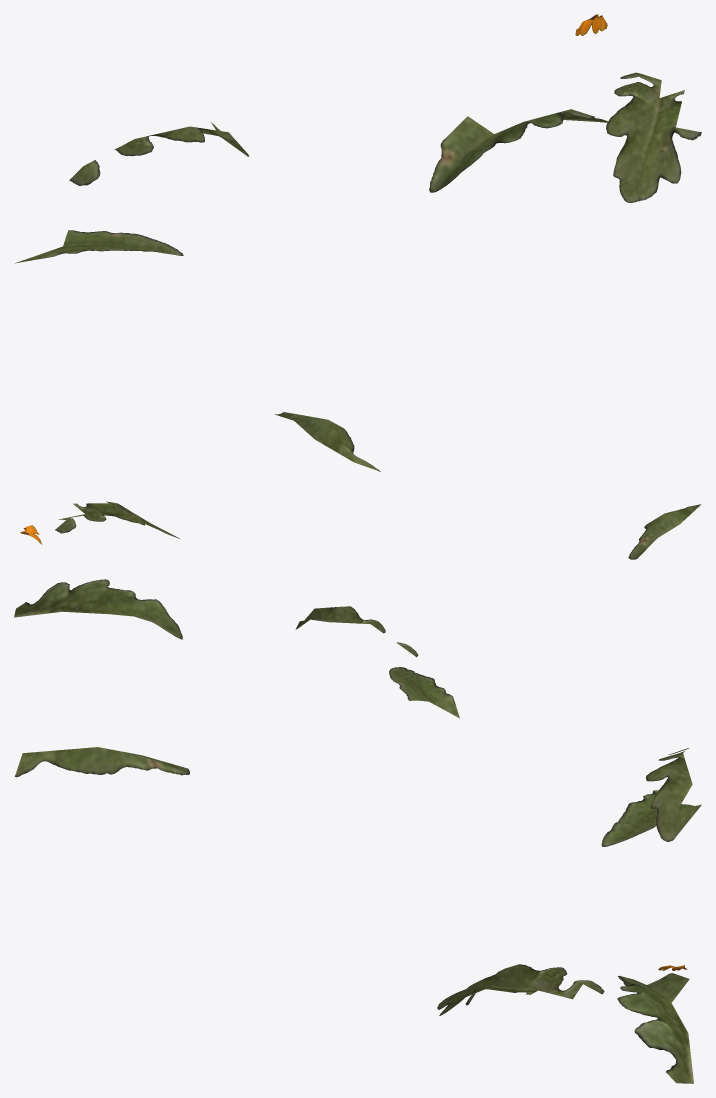
Rendered from flower_gazania.glb.
3 renders of one model, top to bottom at view 1: azimuth 30°, elevation 25°; view 2: azimuth 150°, elevation 25°; view 3: azimuth 270°, elevation 25°, orthographic. The views are drawn at different scales.
Visible parts, largest first — view 1: flower_gazania; view 2: flower_gazania; view 3: flower_gazania.
Boxes of the visible parts, x1,y1,x2,y2 form: flower_gazania: [15, 14, 701, 471]; flower_gazania: [14, 501, 701, 718]; flower_gazania: [15, 747, 701, 1083].
Bounding box in the file's own units: 1.59 × 0.3 × 1.59.
Materials: 1 (1 with a texture image).
